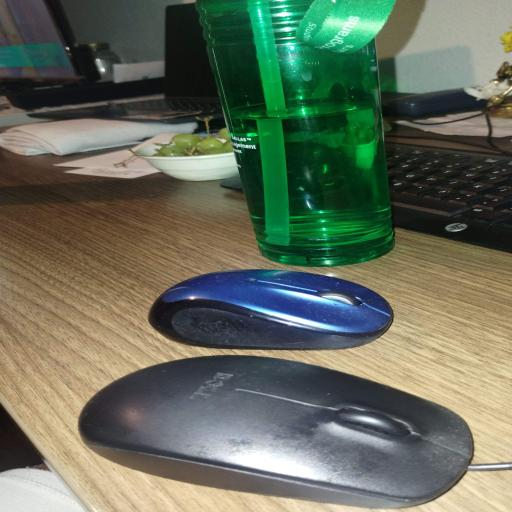mouse: (80, 356, 472, 508), (149, 270, 392, 349)
waterbottle: (197, 0, 393, 266)
